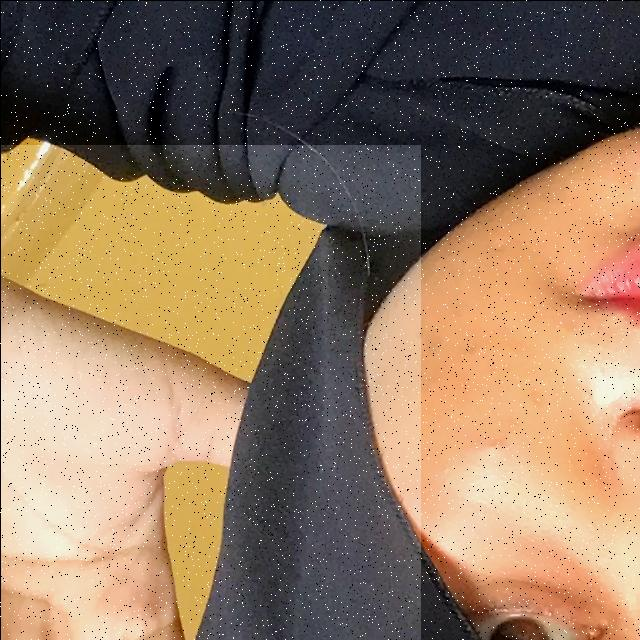mendengar: (0, 144, 420, 640)
